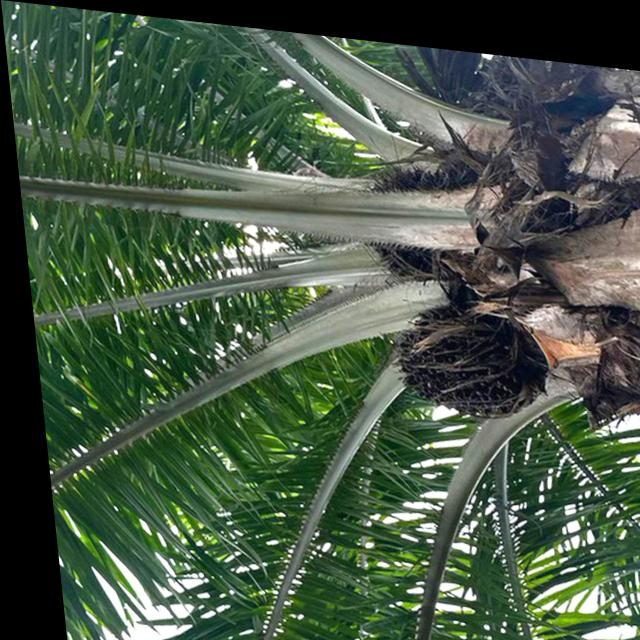almost: (378, 274, 543, 417)
